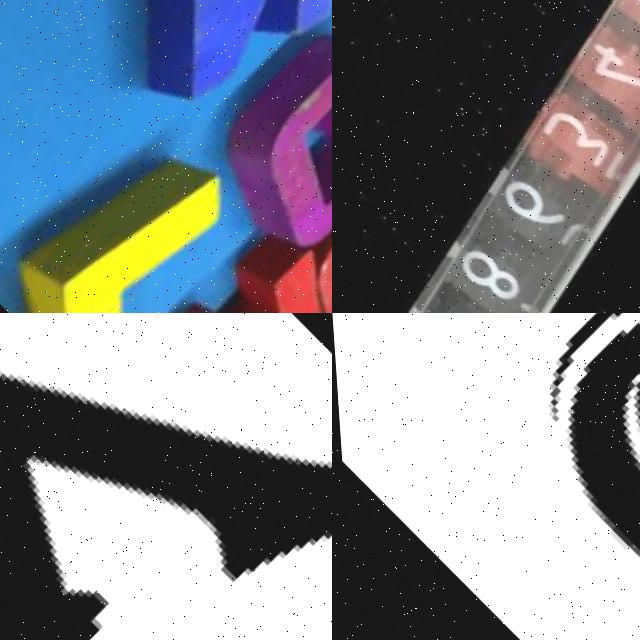3: (530, 87, 623, 182)
4: (573, 19, 640, 108)
6: (487, 156, 575, 246)
8: (444, 229, 529, 313)
9: (332, 313, 640, 640)
A: (103, 210, 332, 313)
G: (160, 0, 332, 288)
L: (0, 107, 289, 313)
N: (0, 0, 332, 182)
U: (248, 112, 332, 313)
Y: (0, 313, 332, 640)
